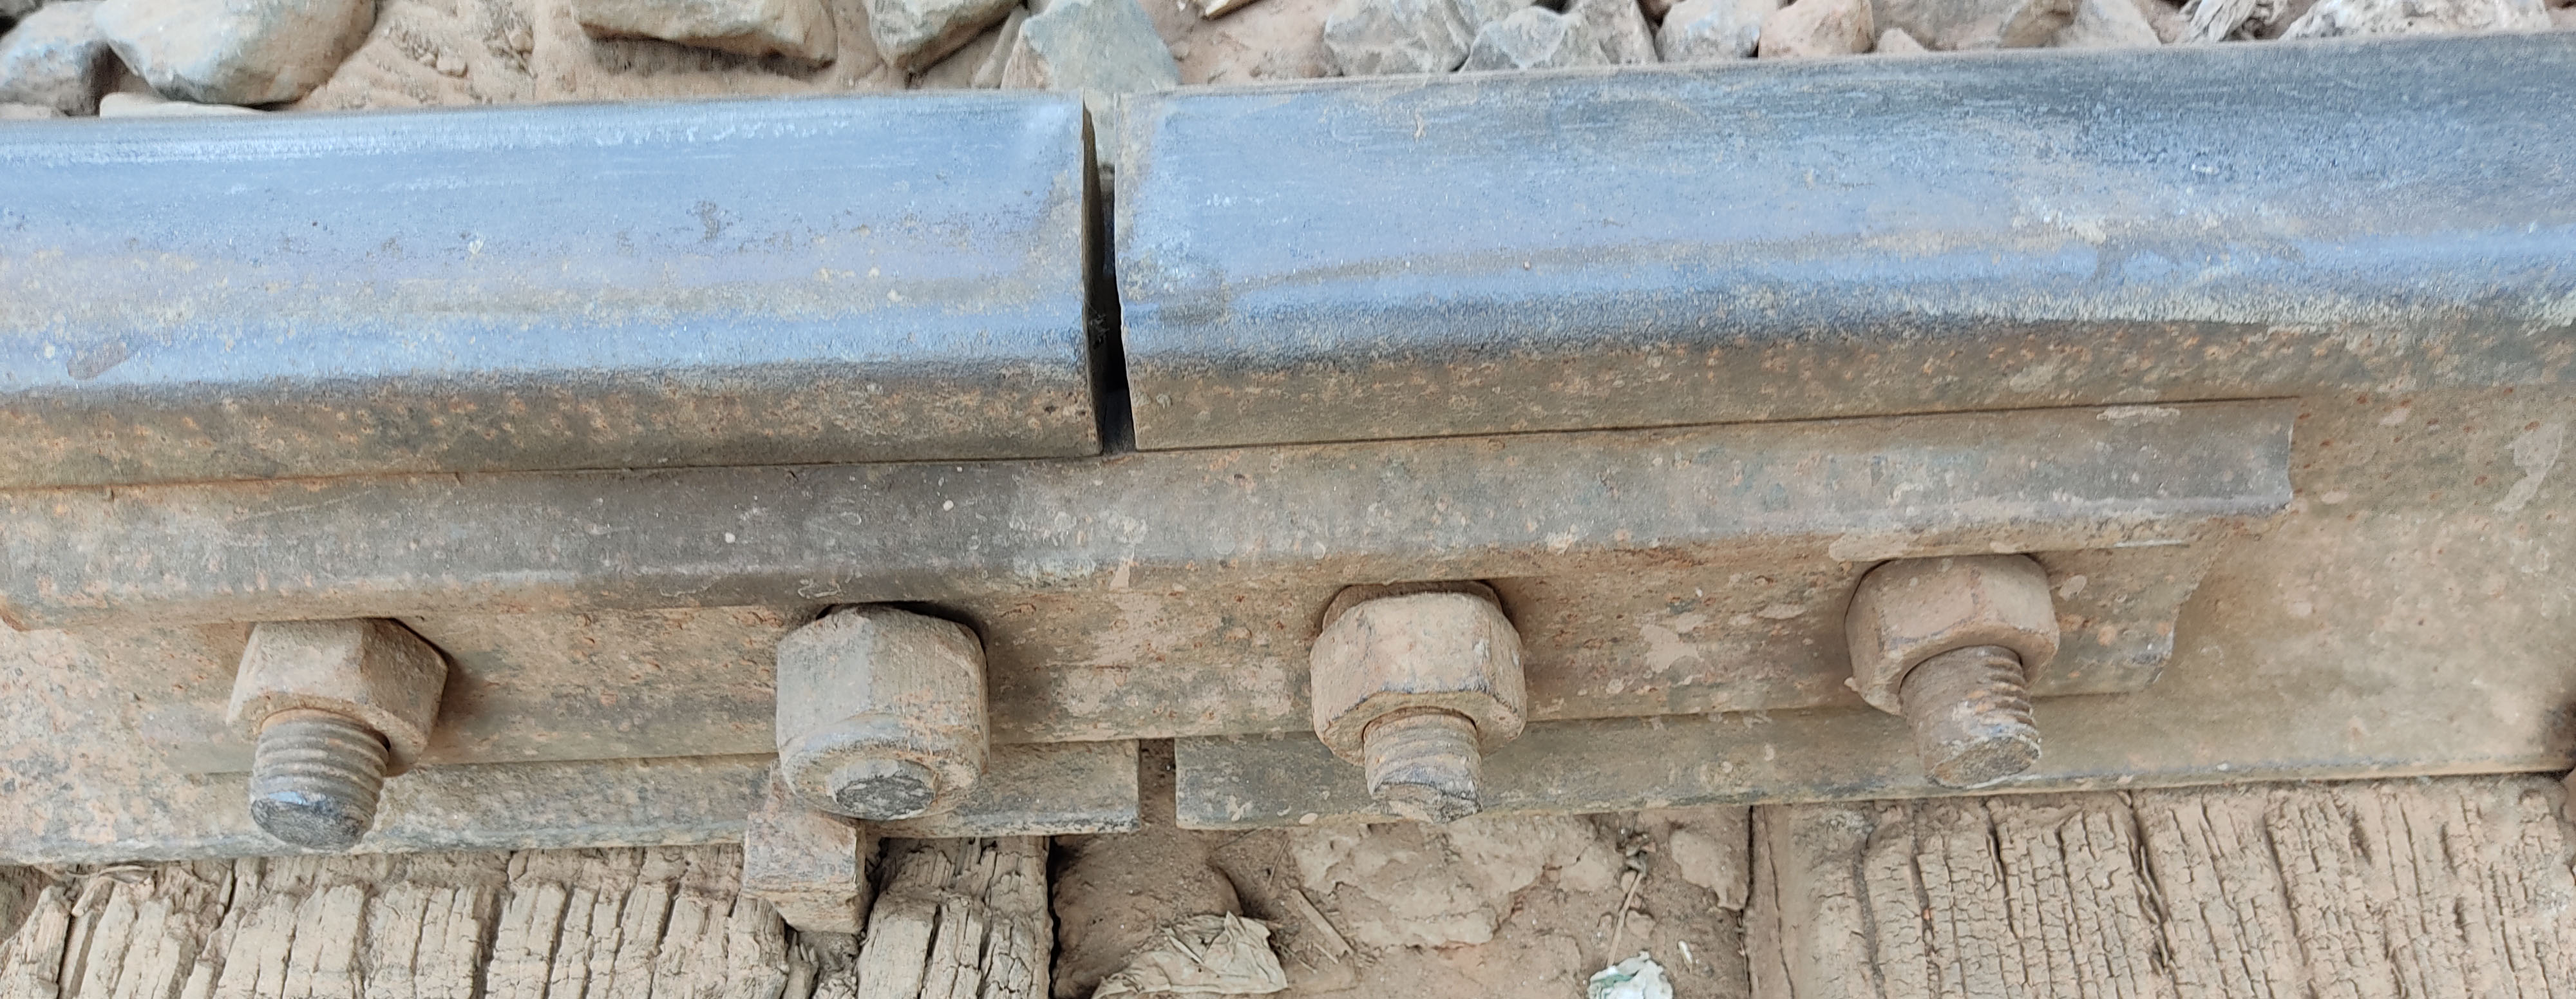error2: (1037, 76, 1175, 483)
